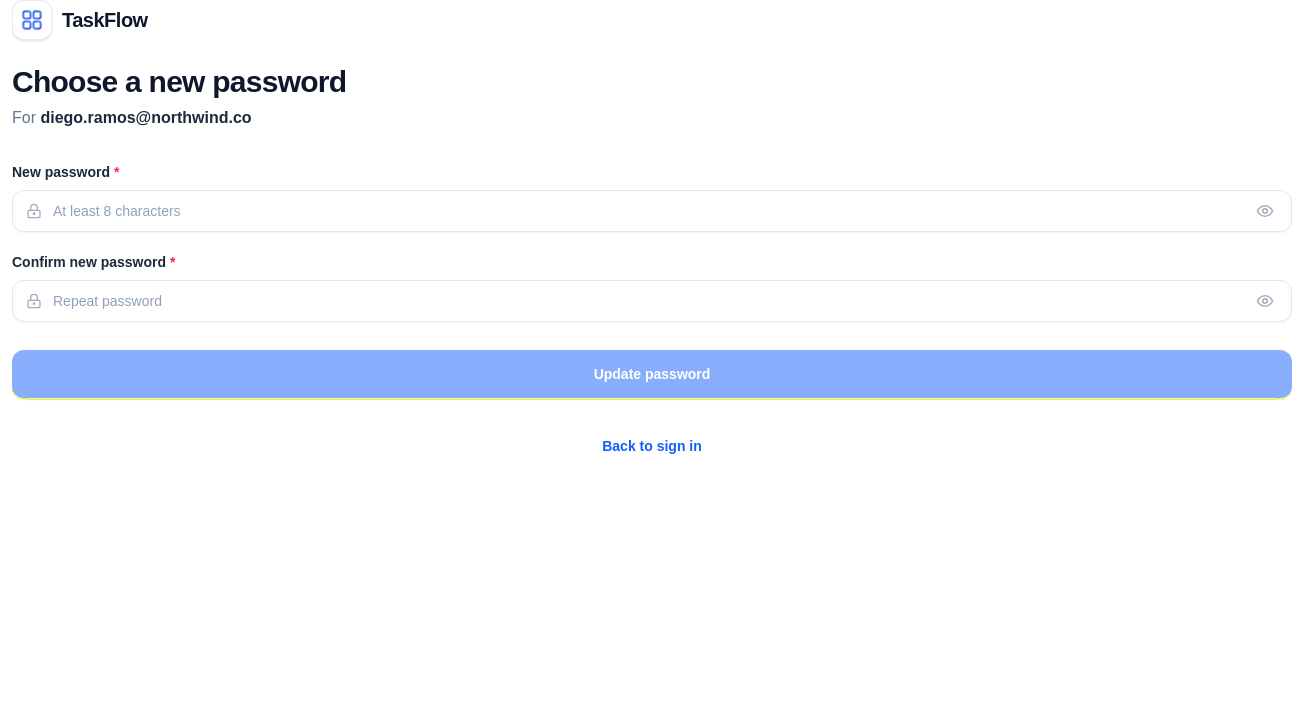
Test: ResetPasswordForm Component › displays "Request a new reset link" ONLY when error status is 401
In the password field with placeholder "At least 8 characters": {"x": 652, "y": 211} [12, 190, 1292, 232], type "NewStrongPassword@123"
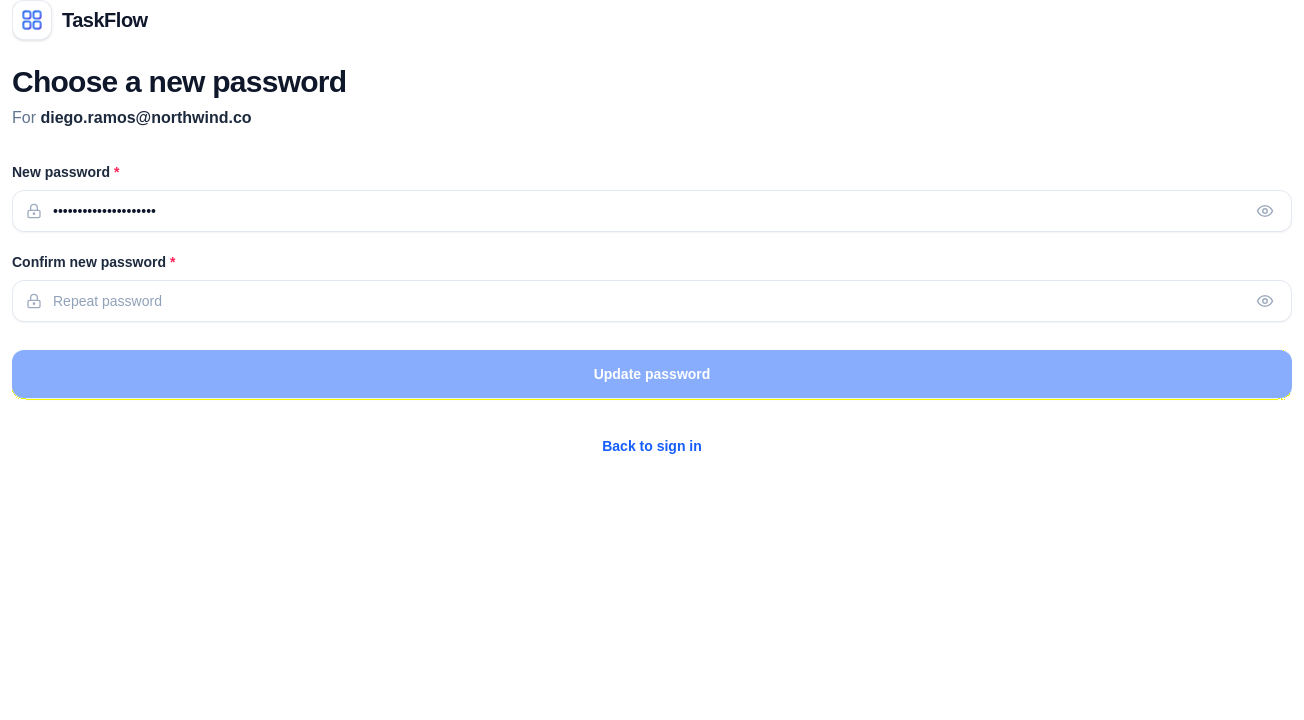
In the password field with placeholder "Repeat password": {"x": 652, "y": 301} [12, 280, 1292, 322], type "NewStrongPassword@123"
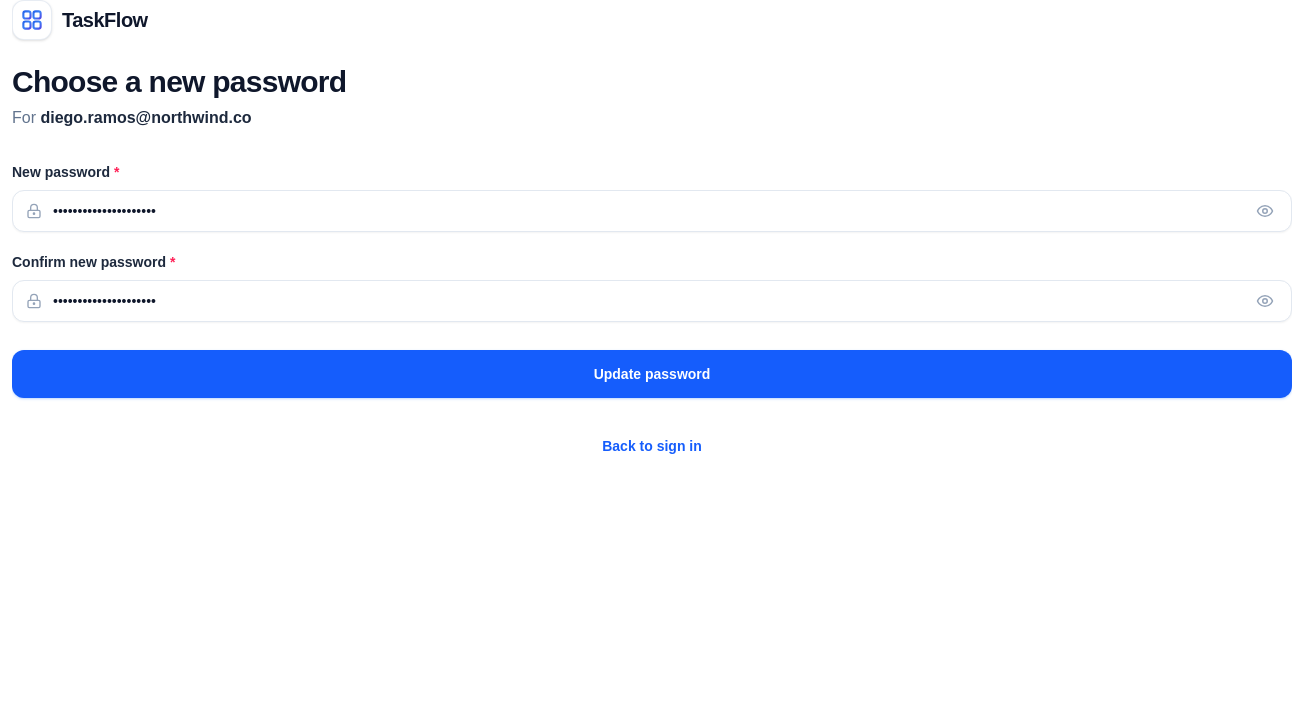
expect the button "Update password" is enabled: met
Click the button "Update password": {"x": 652, "y": 374} [12, 350, 1292, 398]
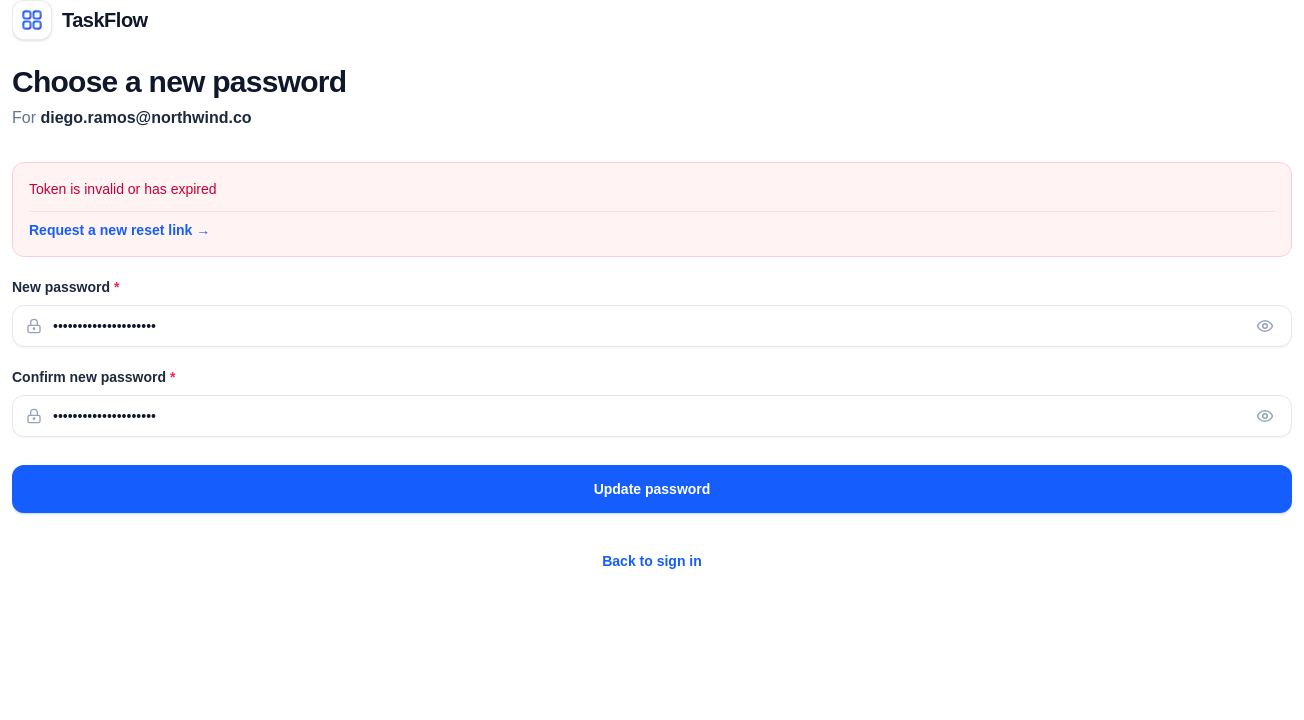
expect the message shows "Token is invalid or has expired": met, box [29, 181, 216, 197]
expect the link "Request a new reset link →" is shown: met, box [29, 220, 210, 240]
